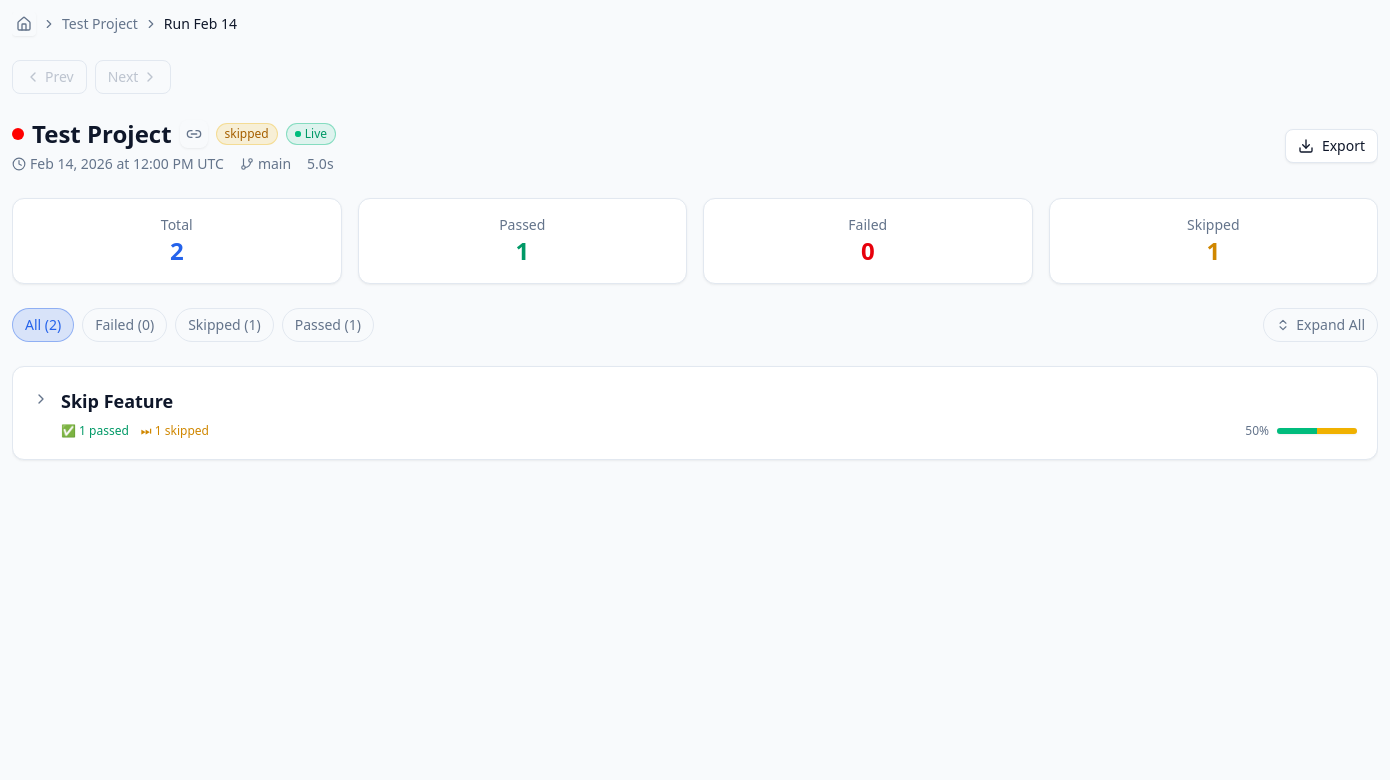
Test: RunClient - Additional Coverage › filters scenarios by status - skipped
Expected: the heading "Skip Feature" is shown, x1=61 y1=389 x2=173 y2=413
# Click "Skipped" filter
Click the button with test id "scenario-filter-skipped". click: click(224, 325)
box: x1=175 y1=308 x2=274 y2=342
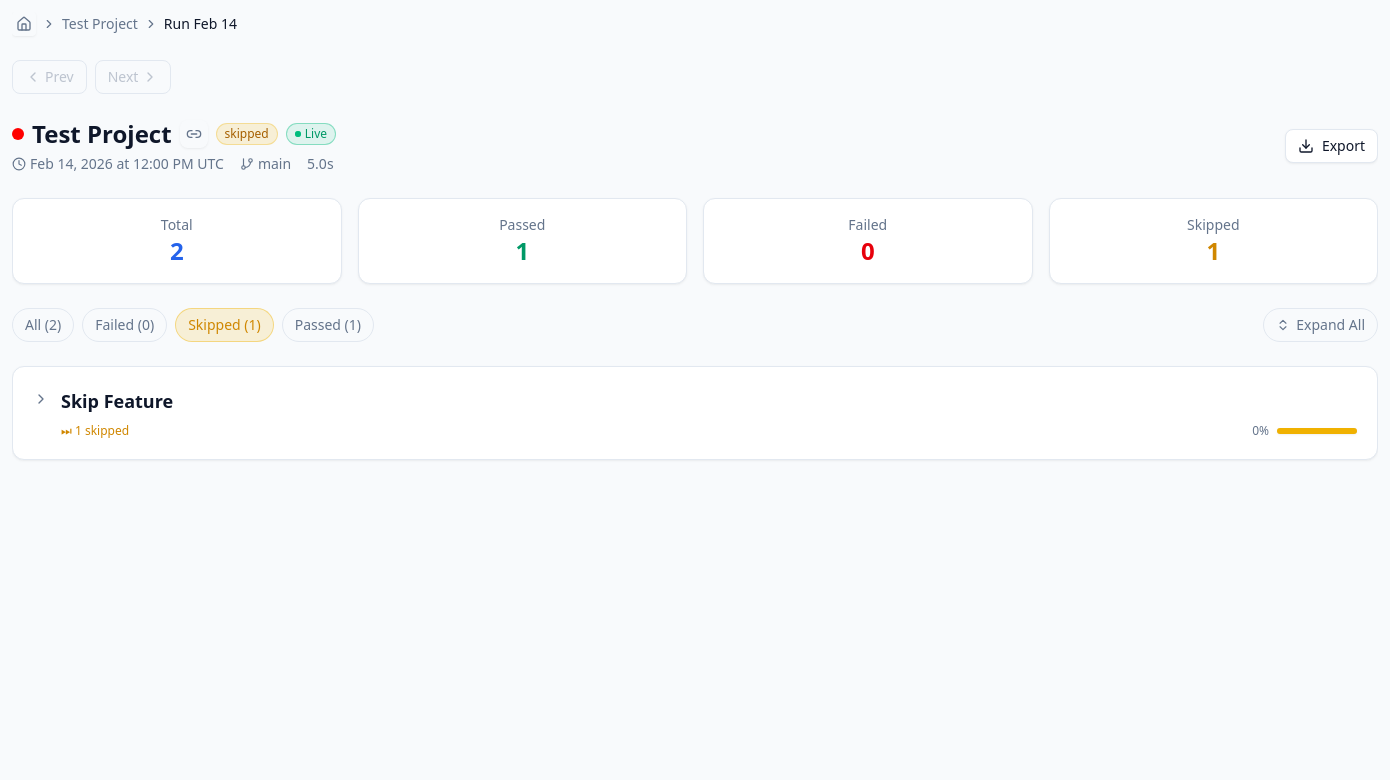
Click the heading "Skip Feature". click: click(117, 401)
box: x1=61 y1=389 x2=173 y2=413
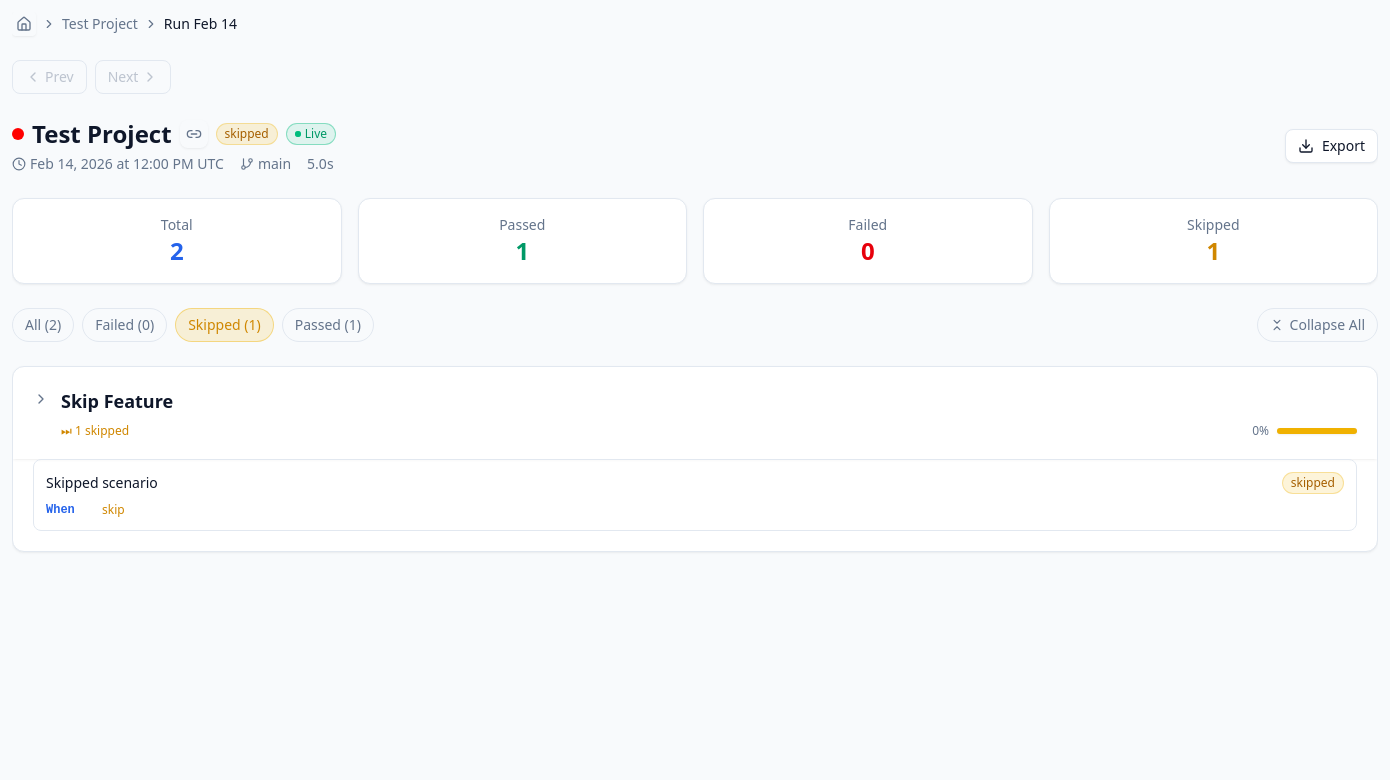
Now the text "Skipped scenario" is shown, box x1=46 y1=473 x2=158 y2=493
